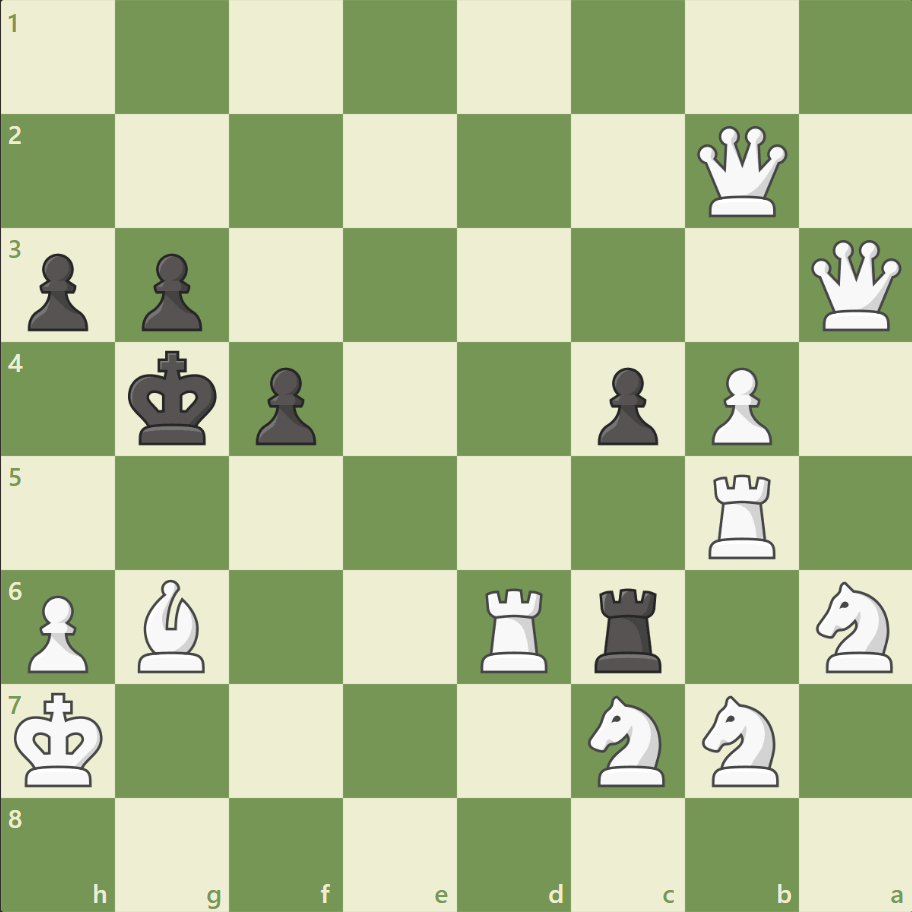B: (131, 574, 215, 676)
K: (11, 685, 111, 793)
N: (692, 688, 789, 791), (579, 688, 676, 791), (806, 575, 903, 677)
P: (20, 586, 95, 677), (701, 359, 776, 450)
Q: (691, 122, 790, 222), (805, 236, 904, 335)
R: (473, 579, 556, 676), (700, 466, 783, 563)
k: (124, 344, 224, 452)
p: (247, 359, 322, 450), (133, 246, 208, 337), (20, 246, 95, 337), (588, 359, 662, 450)
r: (587, 579, 670, 676)
